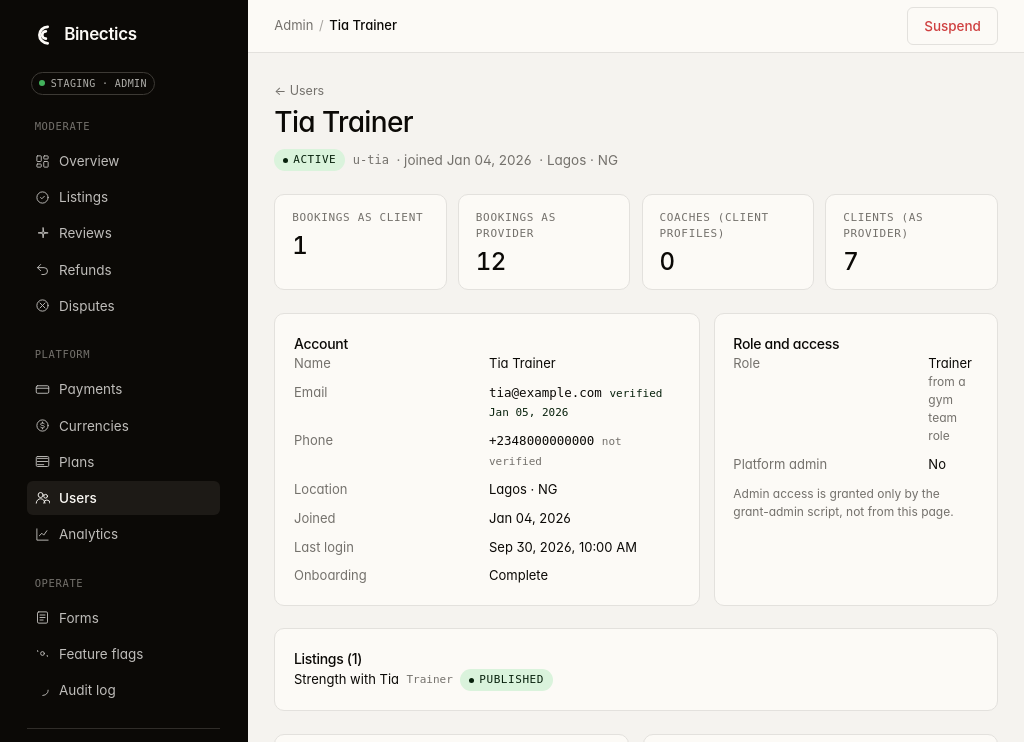
Test: admin user detail › requires a reason to suspend, then suspends and reloads
Click the button "Suspend".
click(953, 26)  # box [907,7,998,45]
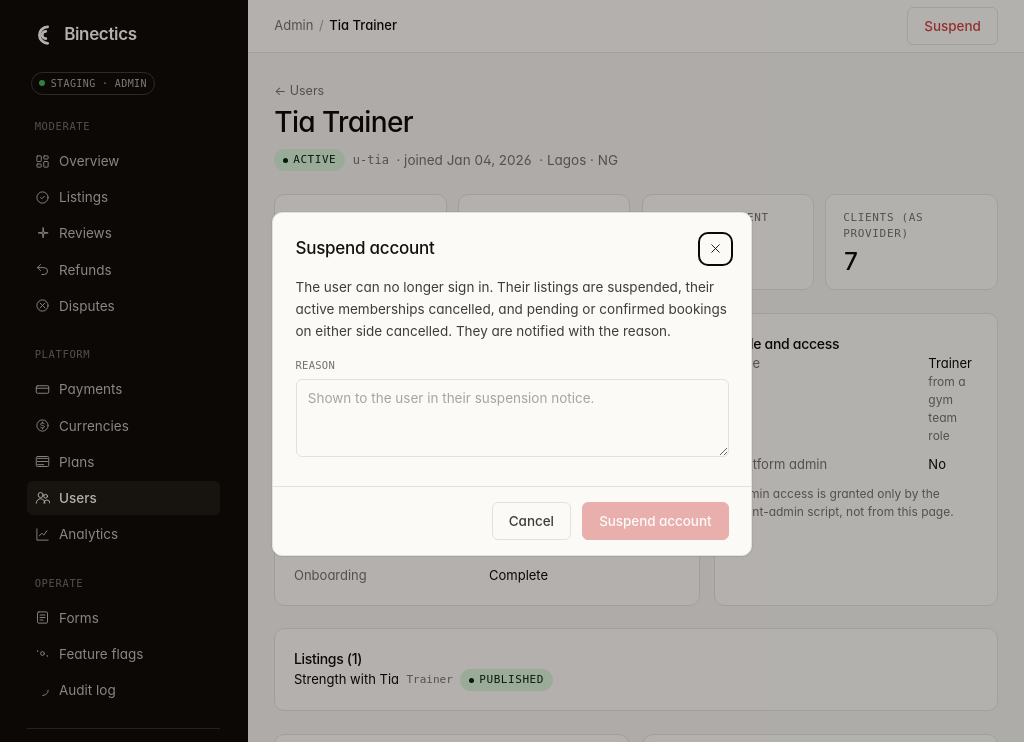
Now the button "Suspend account" is disabled, box [582,502,728,540]
Type "Chargebacks" into the text box labelled "Reason".
click(512, 418); type("Chargebacks")  # box [296,379,728,457]
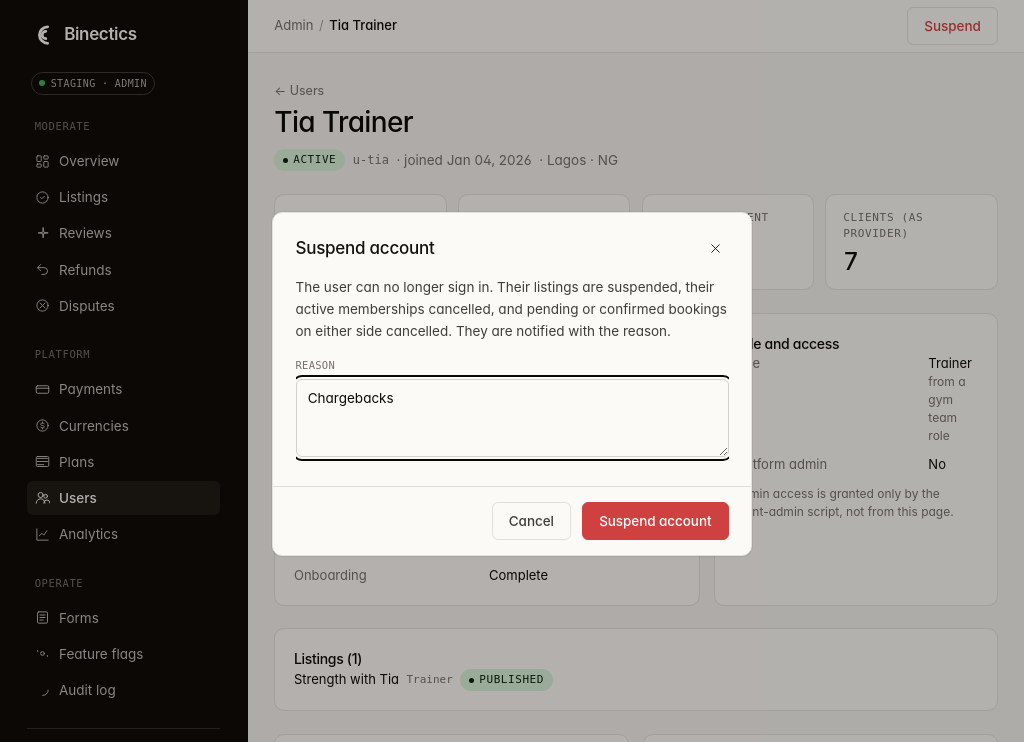
Click the button "Suspend account".
click(655, 521)  # box [582,502,728,540]
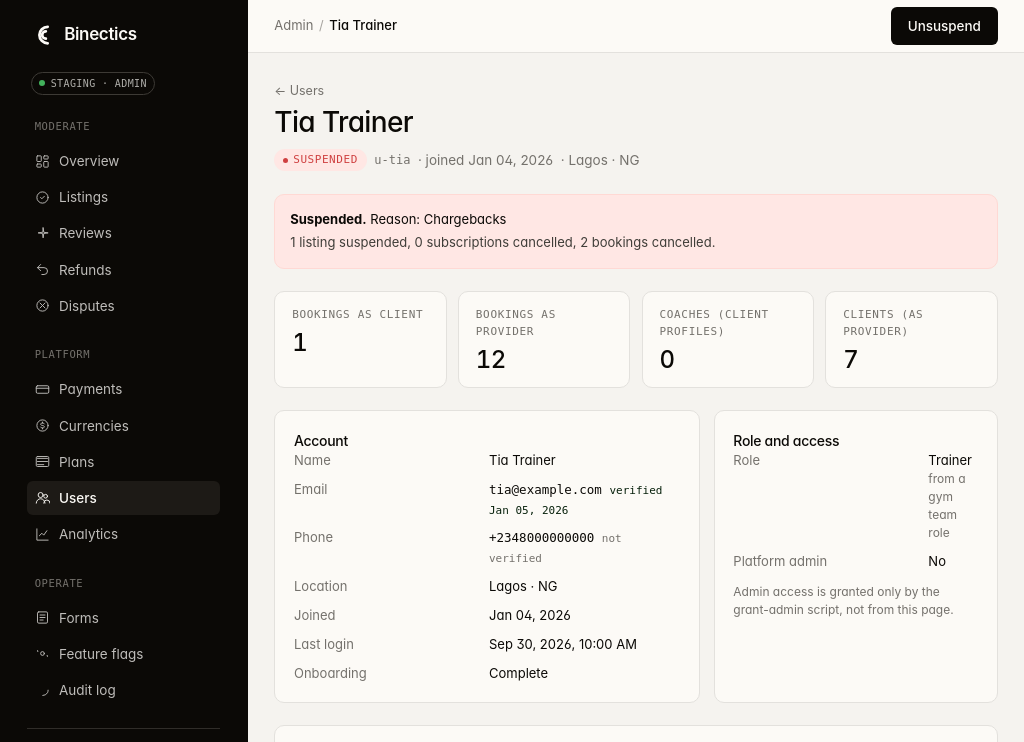
Now the text "Reason: Chargebacks" is shown, box [370,211,506,227]
Now the text "2 bookings cancelled" is shown, box [290,234,716,250]
Now the button "Unsuspend" is shown, box [891,7,998,45]
